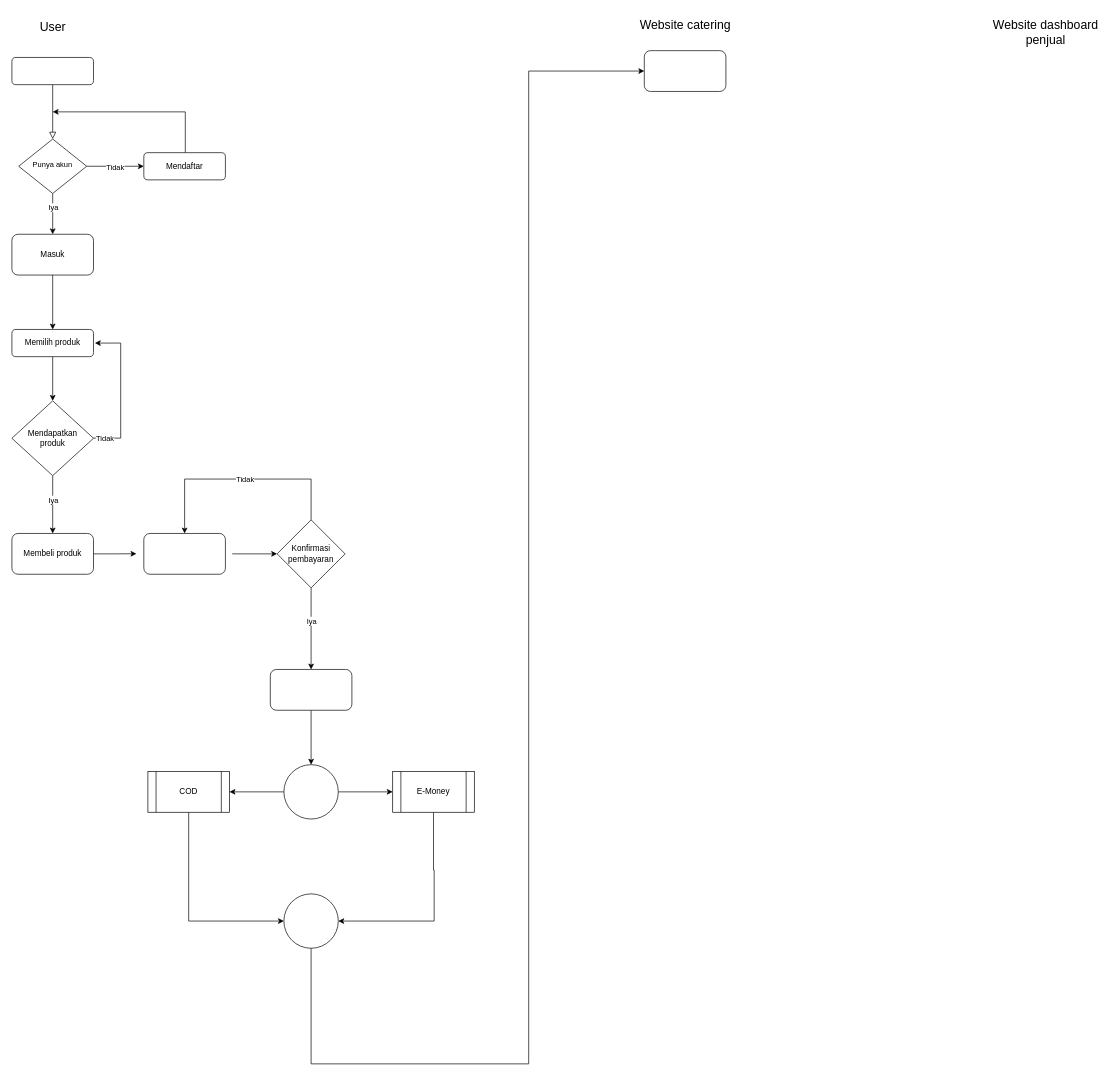
The diagram is 1119 pixels wide and 1081 high, and some of its shapes have lost their labels. The centre of each missing label's shape, as x and y in pixels:
"Memilih metode pembayaran" goes at (x=311, y=689).
"Mengisi detail alamat atau barang mau di ambil ke toko" goes at (x=184, y=553).
"Start" goes at (x=52, y=71).
"Verifikasi pembayaran" goes at (x=685, y=70).
